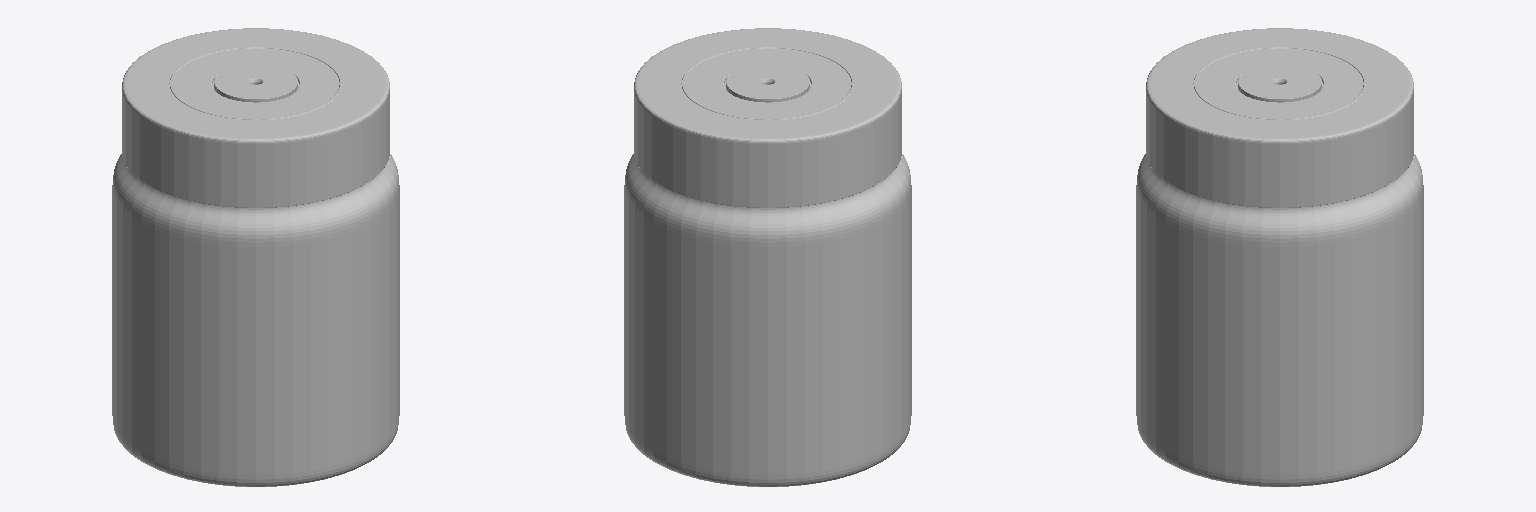
The model's file is MilkContainer.obj.
The picture shows the model from 3 angles: view 1: azimuth 30°, elevation 25°; view 2: azimuth 150°, elevation 25°; view 3: azimuth 270°, elevation 25°; orthographic projection.
Parts seen in each view (by area): view 1: SM_Milchbehaelter_5; view 2: SM_Milchbehaelter_5; view 3: SM_Milchbehaelter_5.
Part boxes in pixels (bbox=[...]): SM_Milchbehaelter_5: bbox=[112, 28, 399, 486]; SM_Milchbehaelter_5: bbox=[624, 28, 911, 486]; SM_Milchbehaelter_5: bbox=[1136, 28, 1423, 486].
Size of the model in its own units: 9.8 by 13.14 by 9.8.